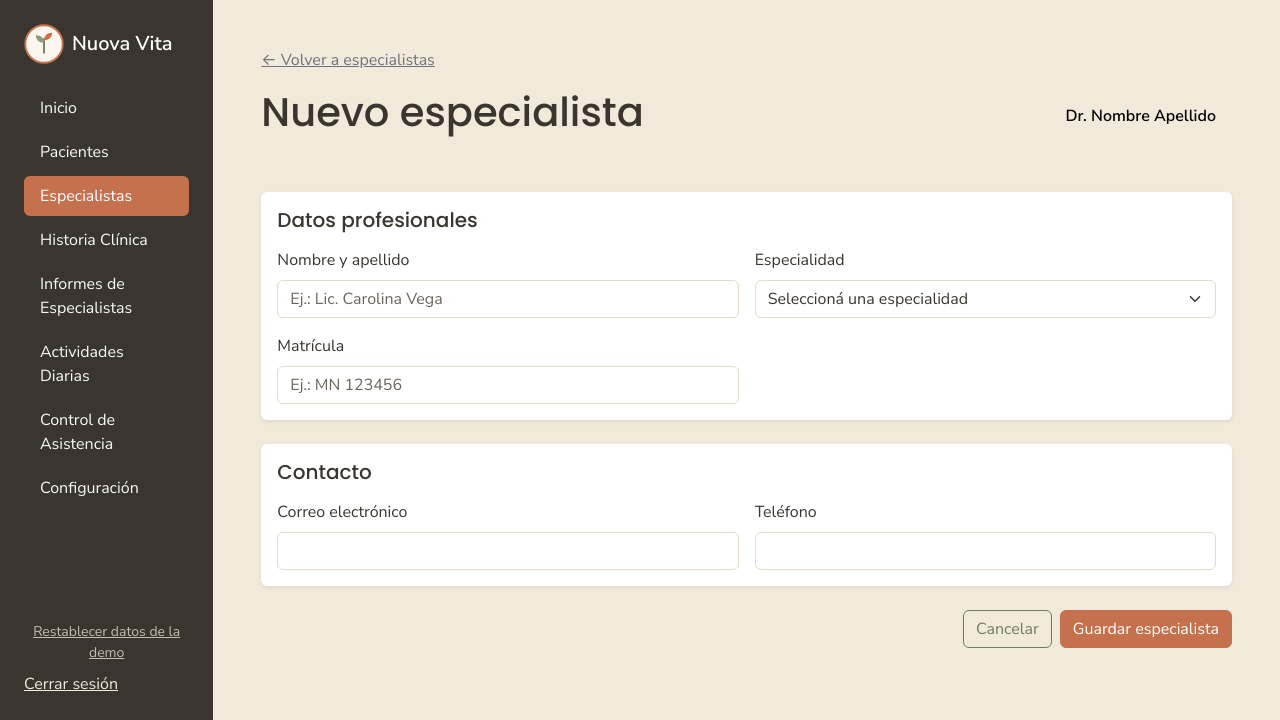
alta de especialista › rechaza matrícula y correo ya registrados
The width and height of the screenshot is (1280, 720).
In the field labelled "Nombre y apellido": point(508, 299) [277,280,739,318], type "Lic. Sofía Paz"
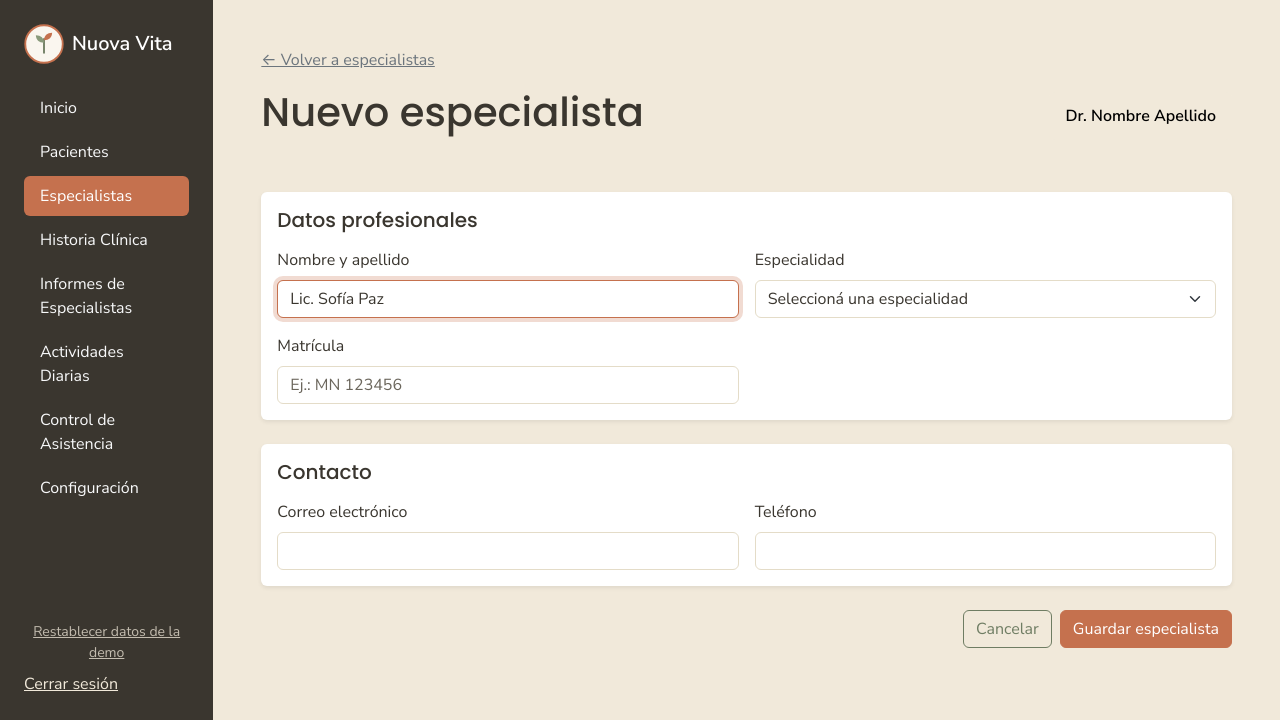
Select "Fonoaudiología" in the dropdown labelled "Especialidad": point(985, 299) [755,280,1216,318]
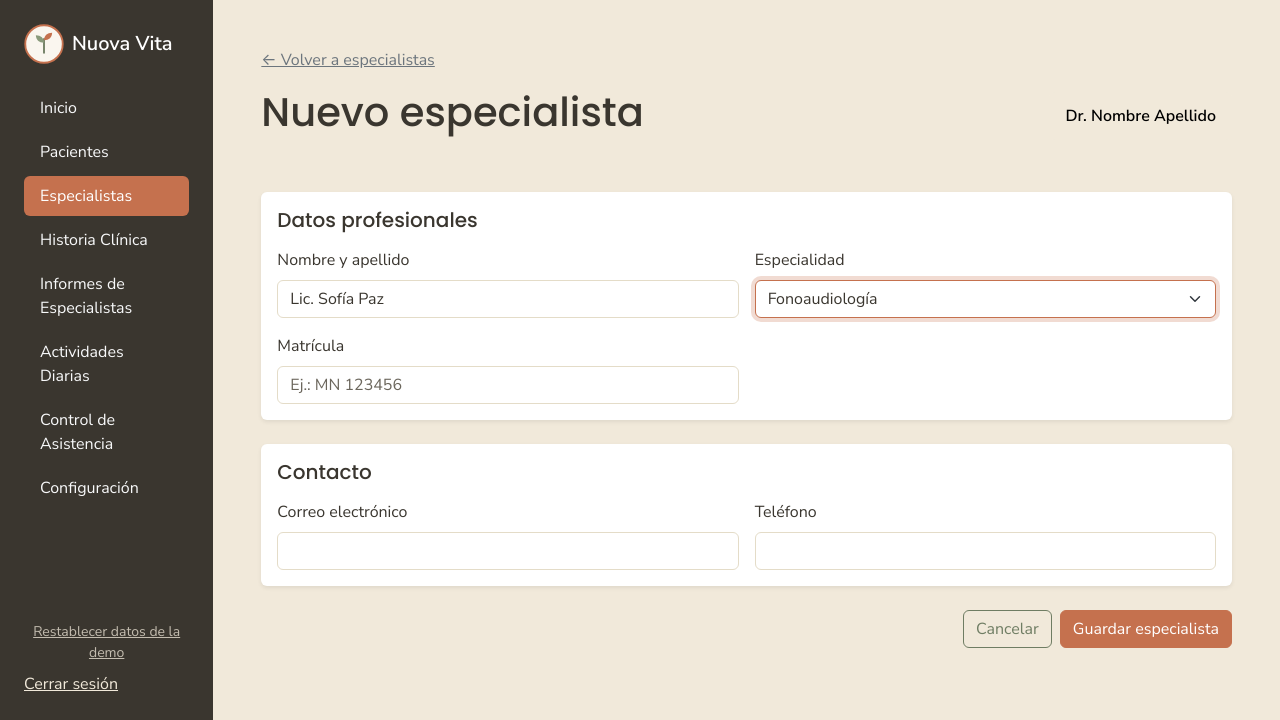
In the field labelled "Matrícula": point(508, 385) [277,366,739,404], type "MN 223344"
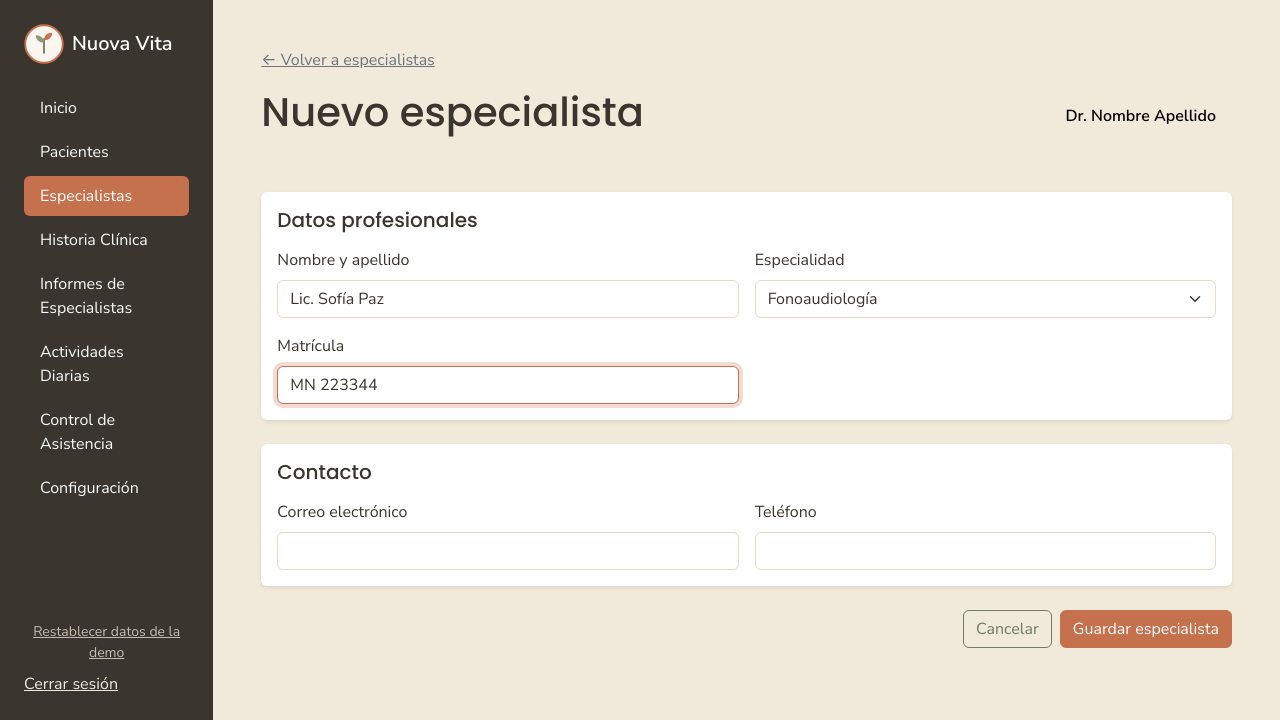
In the field labelled "Correo electrónico": point(508, 551) [277,532,739,570], type "pruiz@nuovavita.com"
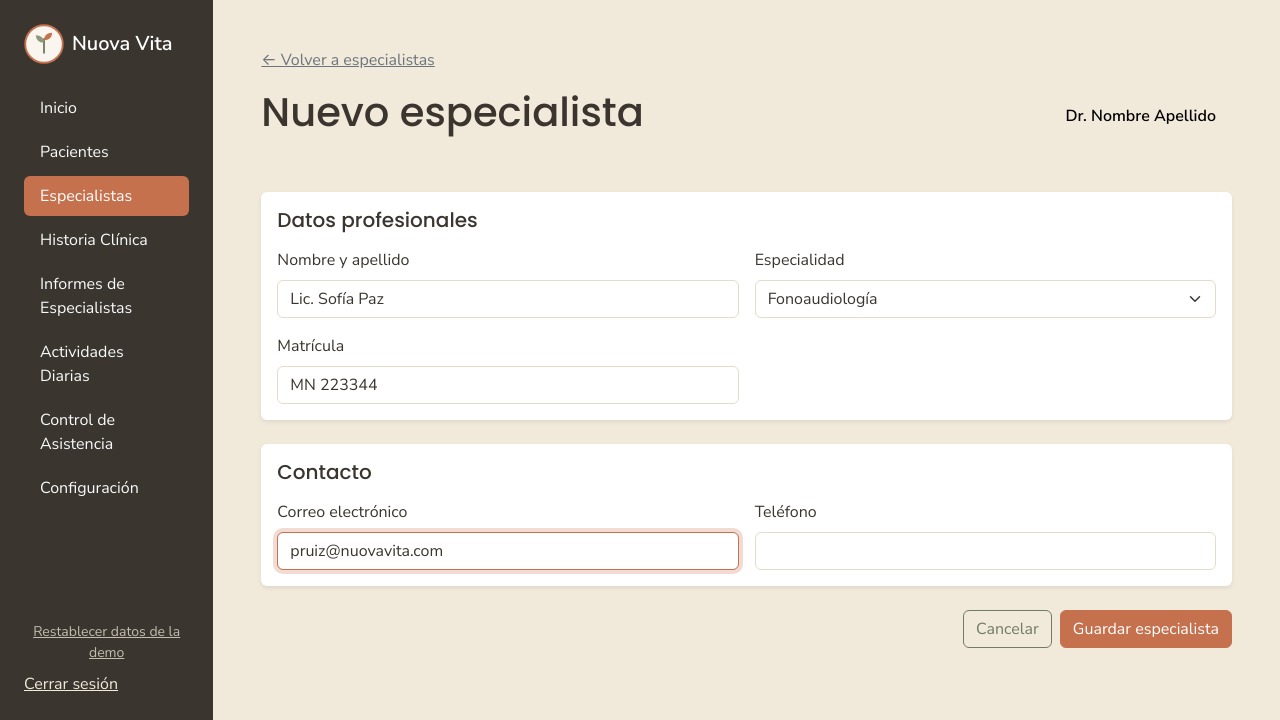
In the field labelled "Teléfono": point(985, 551) [755,532,1216,570], type "11 4000-2000"
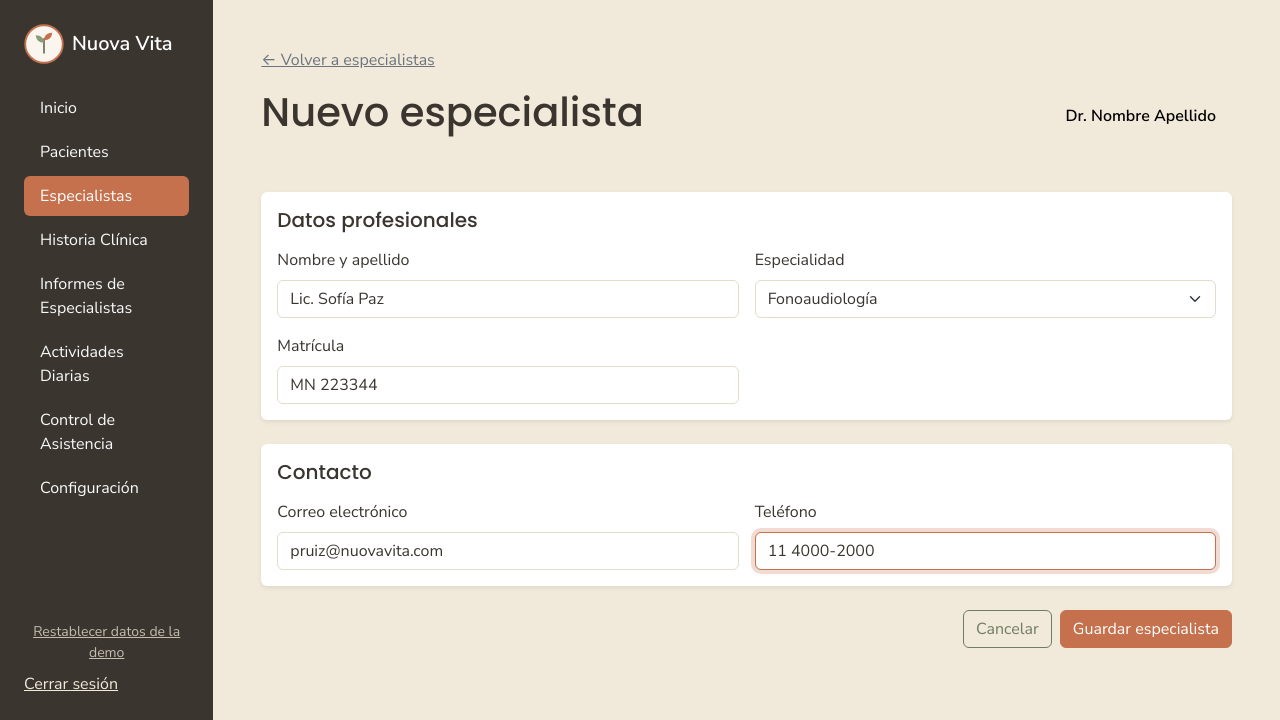
Click the button "Guardar especialista": point(1146, 629) [1060,610,1232,648]
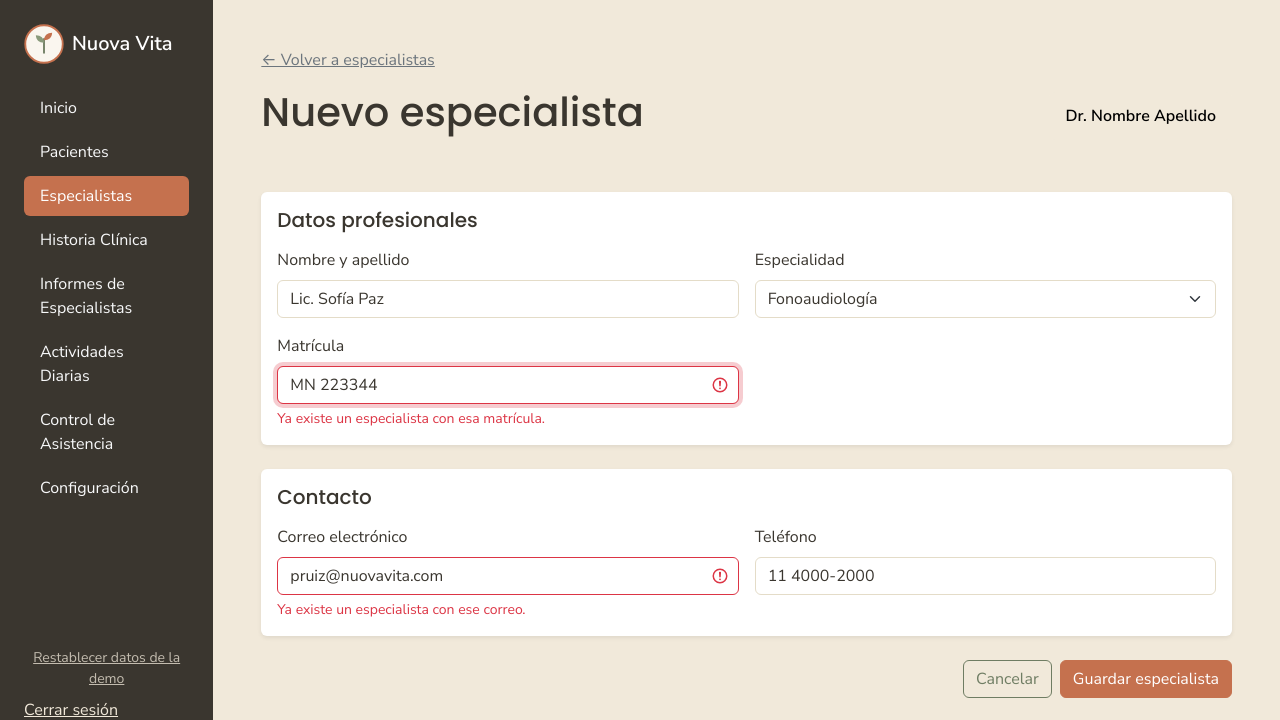
Now the text "Ya existe un especialista con esa matrícula." is shown, box [277,409,545,428]
Now the text "Ya existe un especialista con ese correo." is shown, box [277,600,526,619]
